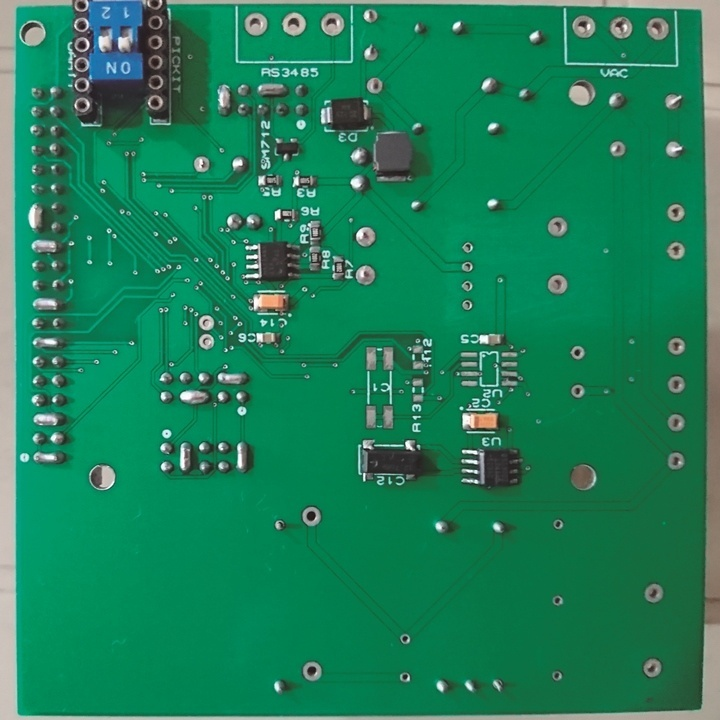F: (241, 8, 272, 40), (280, 9, 309, 38), (319, 10, 347, 39), (570, 12, 598, 40), (607, 13, 634, 42), (644, 15, 671, 44), (353, 261, 378, 290), (353, 224, 379, 250), (544, 214, 570, 239), (299, 504, 324, 529), (544, 272, 569, 297), (664, 200, 689, 225), (299, 660, 325, 684), (664, 238, 688, 260), (641, 655, 662, 680), (664, 335, 687, 357), (641, 582, 664, 604), (663, 91, 687, 112), (664, 375, 688, 395), (362, 41, 381, 66), (666, 412, 687, 434), (664, 138, 685, 160), (667, 450, 687, 472), (364, 76, 387, 95), (607, 138, 627, 159), (362, 7, 382, 28), (190, 154, 211, 174), (196, 312, 216, 332), (490, 676, 508, 695), (198, 332, 216, 350), (568, 343, 585, 362), (569, 383, 587, 399), (272, 516, 287, 534), (459, 296, 475, 312), (398, 669, 411, 686), (461, 239, 474, 256), (550, 668, 564, 683), (459, 278, 474, 292), (399, 633, 412, 648), (460, 260, 473, 275), (552, 517, 564, 533), (552, 594, 564, 609)
P: (30, 295, 66, 315), (30, 450, 67, 468), (176, 389, 212, 407), (233, 440, 251, 476), (28, 238, 64, 255), (27, 200, 45, 234), (256, 81, 288, 100), (30, 335, 65, 352), (32, 412, 67, 429), (177, 440, 193, 476), (215, 371, 250, 387), (216, 82, 230, 117)
